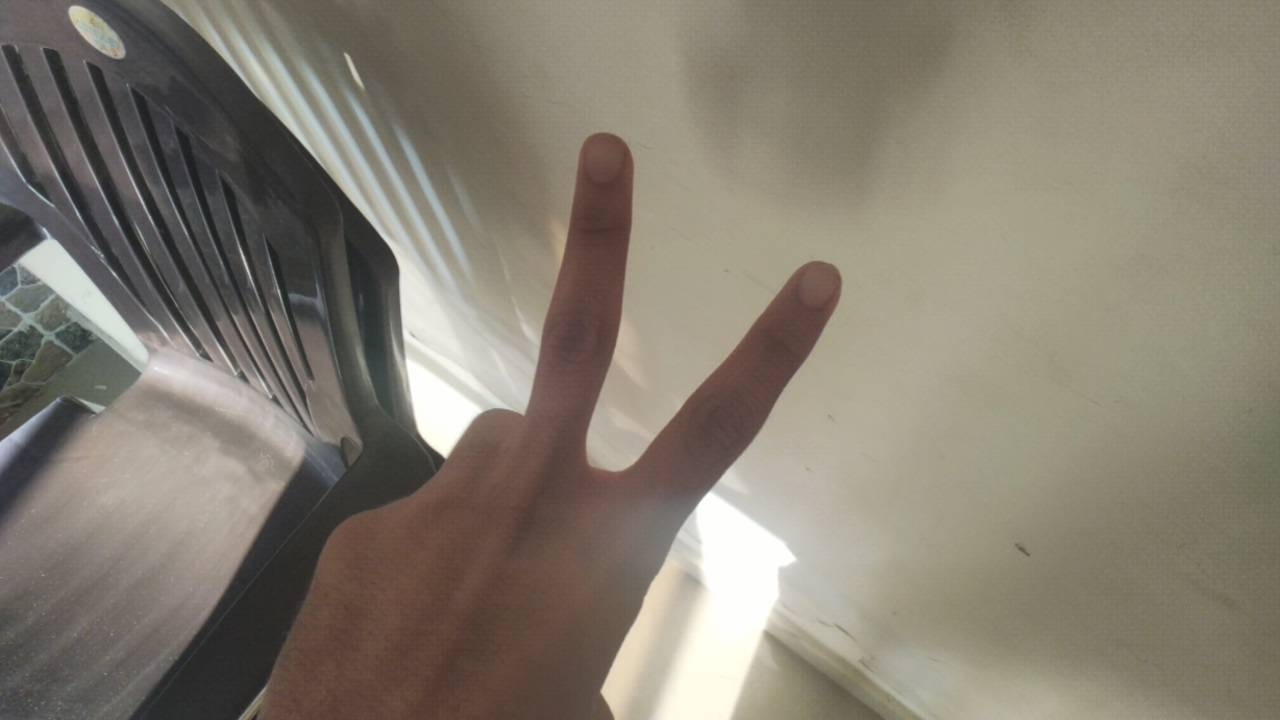fingertip: (572, 132, 638, 188), (784, 256, 850, 312)
